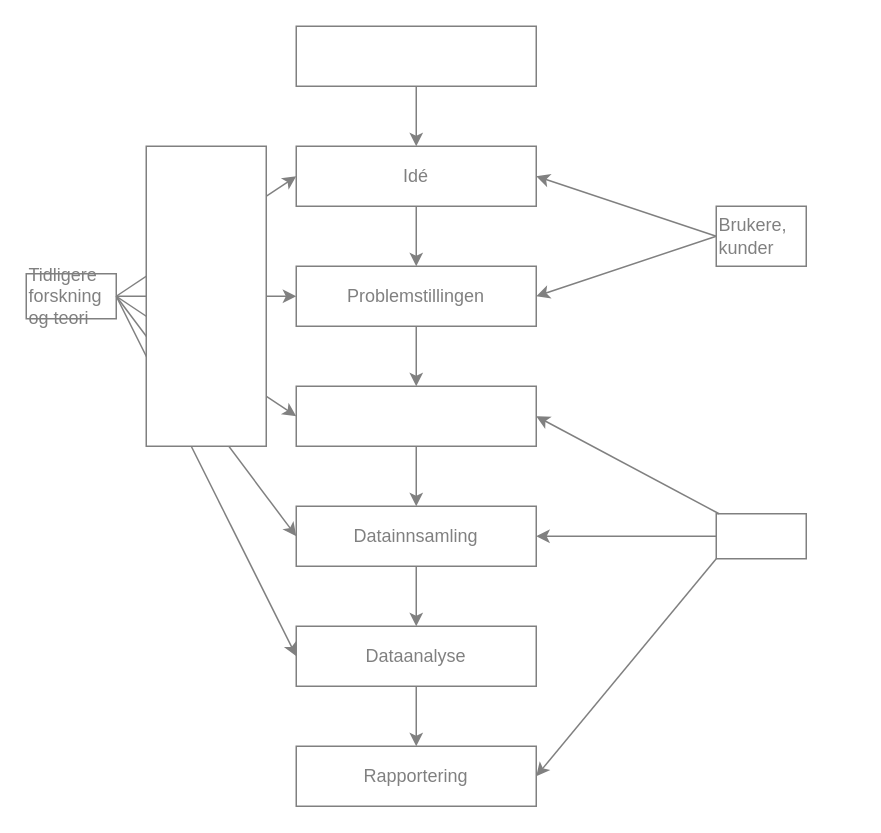
Image size: 881x833. Some labels were removed from this diagram. Each missing label, with the centre of its shape:
Forberede: [205,295]
Forskerens interesser: [415,55]
Forskningsetiske vurdering: [760,535]
Strategi og design: [415,415]
